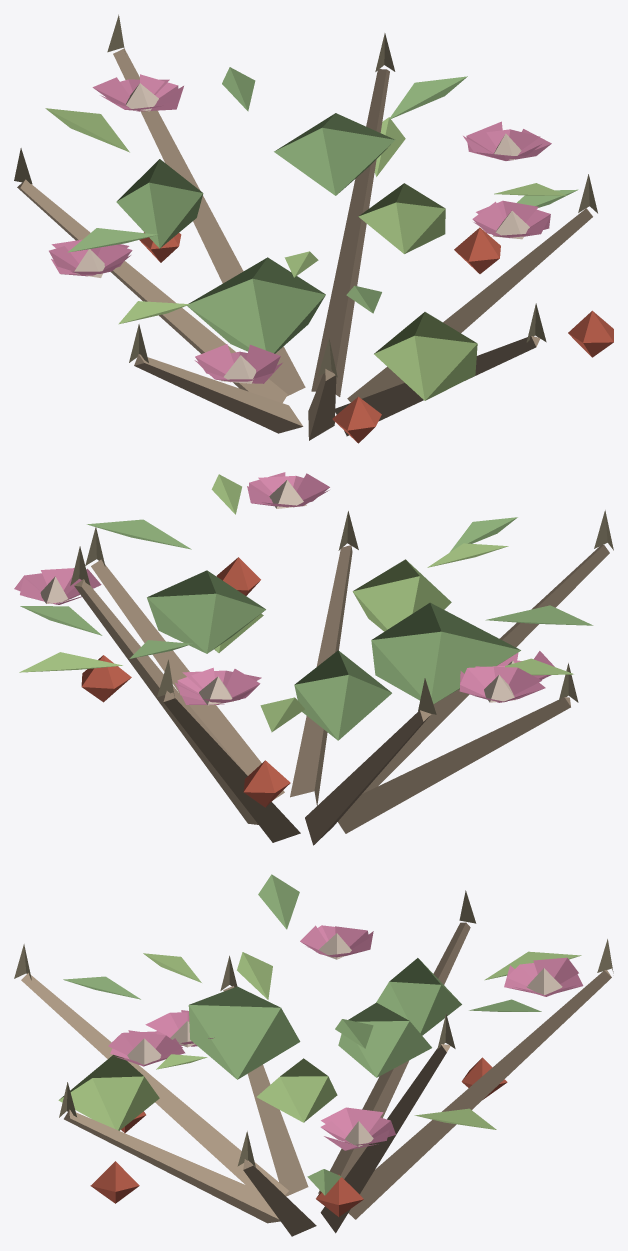
Rendered from guan.xuangouzi__bloom.glb.
3 renders of one model, top to bottom at view 1: azimuth 30°, elevation 25°; view 2: azimuth 150°, elevation 25°; view 3: azimuth 270°, elevation 25°, orthographic. The views are drawn at different scales.
Parts seen in each view (by area): view 1: guan.xuangouzi__bloom; view 2: guan.xuangouzi__bloom; view 3: guan.xuangouzi__bloom.
Boxes of the visible parts, <box> form: guan.xuangouzi__bloom: <box>14,14,613,443</box>; guan.xuangouzi__bloom: <box>14,472,613,845</box>; guan.xuangouzi__bloom: <box>14,874,613,1236</box>.
Bounding box in the file's own units: 2.76 × 1.46 × 2.92.
